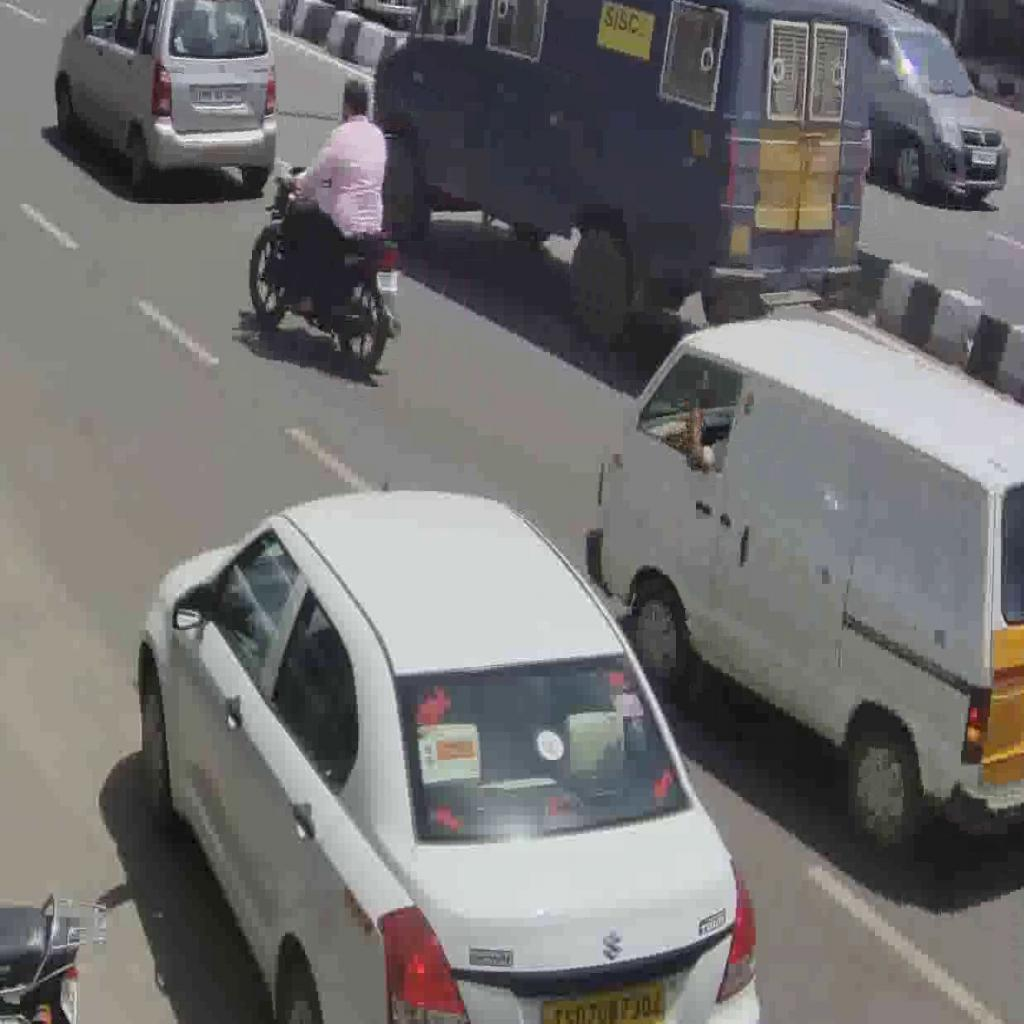helmet: (245, 161, 406, 374)
